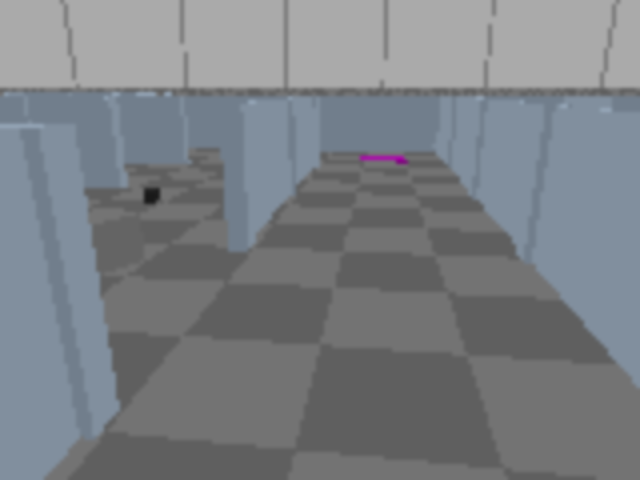goal_zone: (357, 154, 406, 162)
obstacle: (41, 206, 145, 282)
